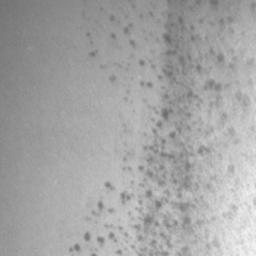Pitted surface: (69, 13, 239, 256), (110, 0, 153, 48), (167, 0, 219, 10), (210, 17, 234, 33), (122, 143, 132, 171), (228, 165, 238, 192), (236, 92, 249, 112), (223, 205, 238, 219), (89, 50, 98, 58), (109, 75, 116, 83)
